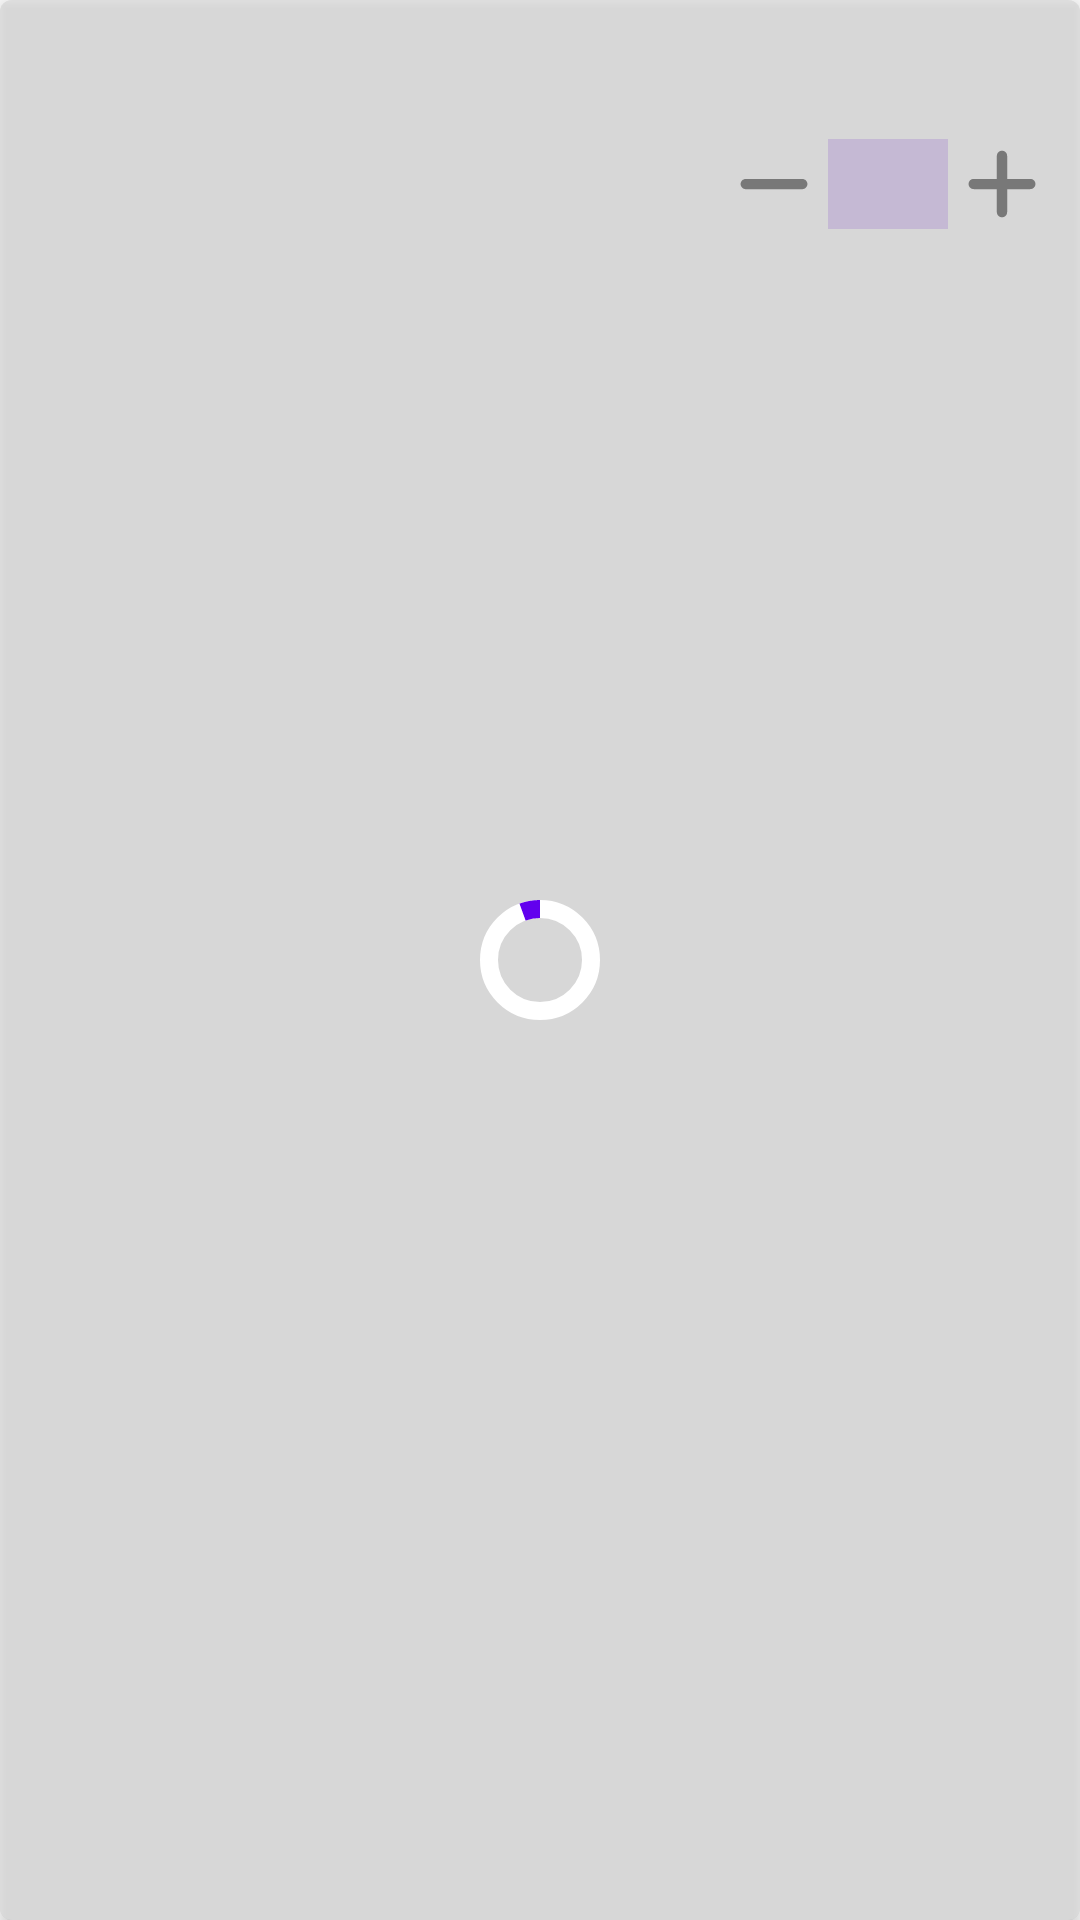

Icons on this 1080 × 1920 Android screen, each with the point to tap as point (x, y):
plus: point (1002, 184)
